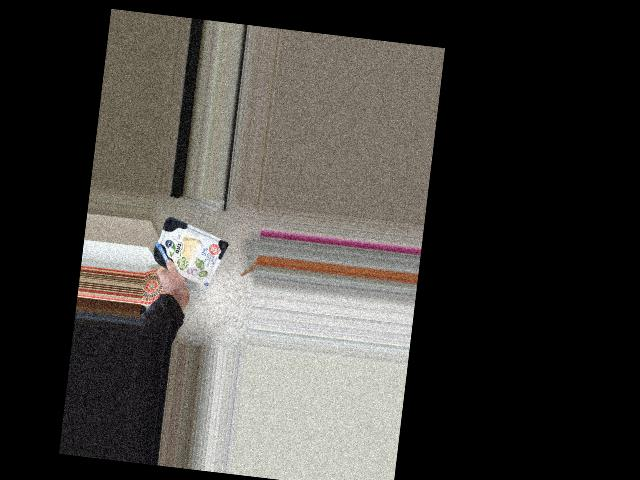cheese: (149, 214, 231, 287)
